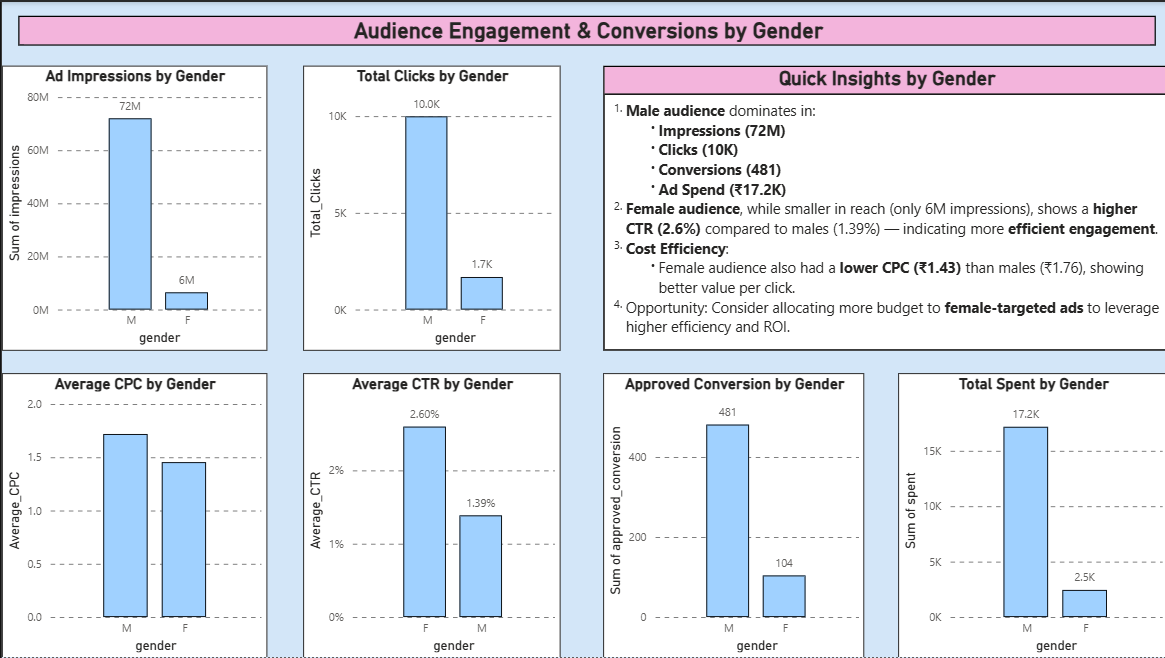

This screenshot's page, from the dashboard's own definition file:
{"tool":"powerbi","page":{"name":"Page 3","canvas":[1280,720],"ordinal":2},"visuals":[{"type":"clusteredColumnChart","title":"Ad Impressions by Gender","fields":{"Category":["FB Data.gender"],"Y":["Sum(FB Data.impressions)"]},"box":[0,70,290.9,312.9],"z":0},{"type":"clusteredColumnChart","title":"Average  CPC by Gender","fields":{"Category":["FB Data.gender"],"Y":["FB Data.Average_CPC"]},"box":[0,407.5,290.9,312.9],"z":1000},{"type":"clusteredColumnChart","title":"Total Clicks by Gender","fields":{"Category":["FB Data.gender"],"Y":["FB Data.Total_Clicks"]},"box":[330.7,70,282.7,312.9],"z":2000},{"type":"clusteredColumnChart","title":"Total Spent by Gender","fields":{"Category":["FB Data.gender"],"Y":["Sum(FB Data.spent)"]},"box":[983.9,407.5,296.4,312.9],"z":3000},{"type":"clusteredColumnChart","title":"Approved Conversion by Gender","fields":{"Y":["Sum(FB Data.approved_conversion)"],"Category":["FB Data.gender"]},"box":[660,407.5,286.8,312.9],"z":4000},{"type":"clusteredColumnChart","title":"Average CTR by Gender","fields":{"Y":["FB Data.Average_CTR"],"Category":["FB Data.gender"]},"box":[330.7,407.5,282.7,312.9],"z":5000},{"type":"textbox","title":"Audience Engagement & Conversions by Gender","box":[17.8,15.1,1248.7,32.9],"z":6000},{"type":"textbox","title":"Quick Insights by Gender","box":[660,70,620.2,312.9],"z":7000}]}

Visuals, with their boxes in screenshot pixels (x1, y1, x2, y2), scaled from the page's 1280x720 canvas onto the 1165x658 screenshot:
"Ad Impressions by Gender" clusteredColumnChart: [0, 64, 265, 350]
"Average  CPC by Gender" clusteredColumnChart: [0, 372, 265, 657]
"Total Clicks by Gender" clusteredColumnChart: [301, 64, 558, 350]
"Total Spent by Gender" clusteredColumnChart: [896, 372, 1164, 657]
"Approved Conversion by Gender" clusteredColumnChart: [601, 372, 862, 657]
"Average CTR by Gender" clusteredColumnChart: [301, 372, 558, 657]
"Audience Engagement & Conversions by Gender" textbox: [16, 14, 1153, 44]
"Quick Insights by Gender" textbox: [601, 64, 1164, 350]
